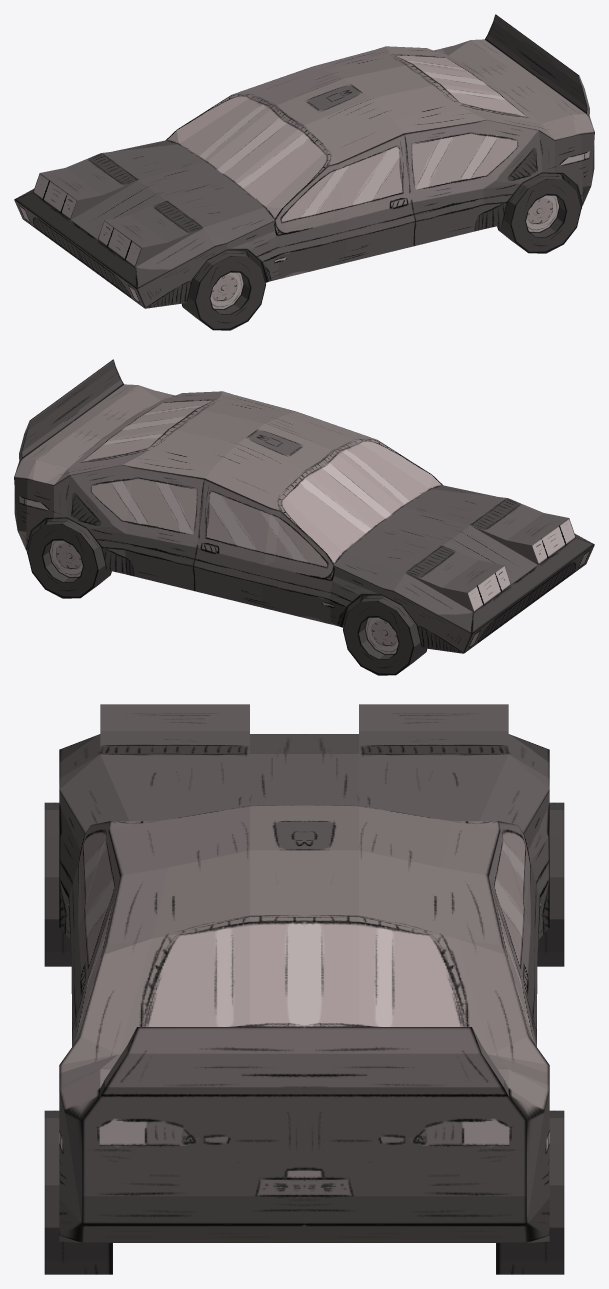
File: Voiture.fbx
3 renders of one model, top to bottom at view 1: azimuth 30°, elevation 25°; view 2: azimuth 150°, elevation 25°; view 3: azimuth 270°, elevation 25°, orthographic. The views are drawn at different scales.
Parts seen in each view (by area): view 1: Voiture; view 2: Voiture; view 3: Voiture.
Boxes of the visible parts, x1=… form: Voiture: x1=14, y1=14, x2=594, y2=330; Voiture: x1=14, y1=359, x2=594, y2=675; Voiture: x1=44, y1=704, x2=564, y2=1274.
Bounding box in the file's own units: 103 × 31.41 × 49.99.
